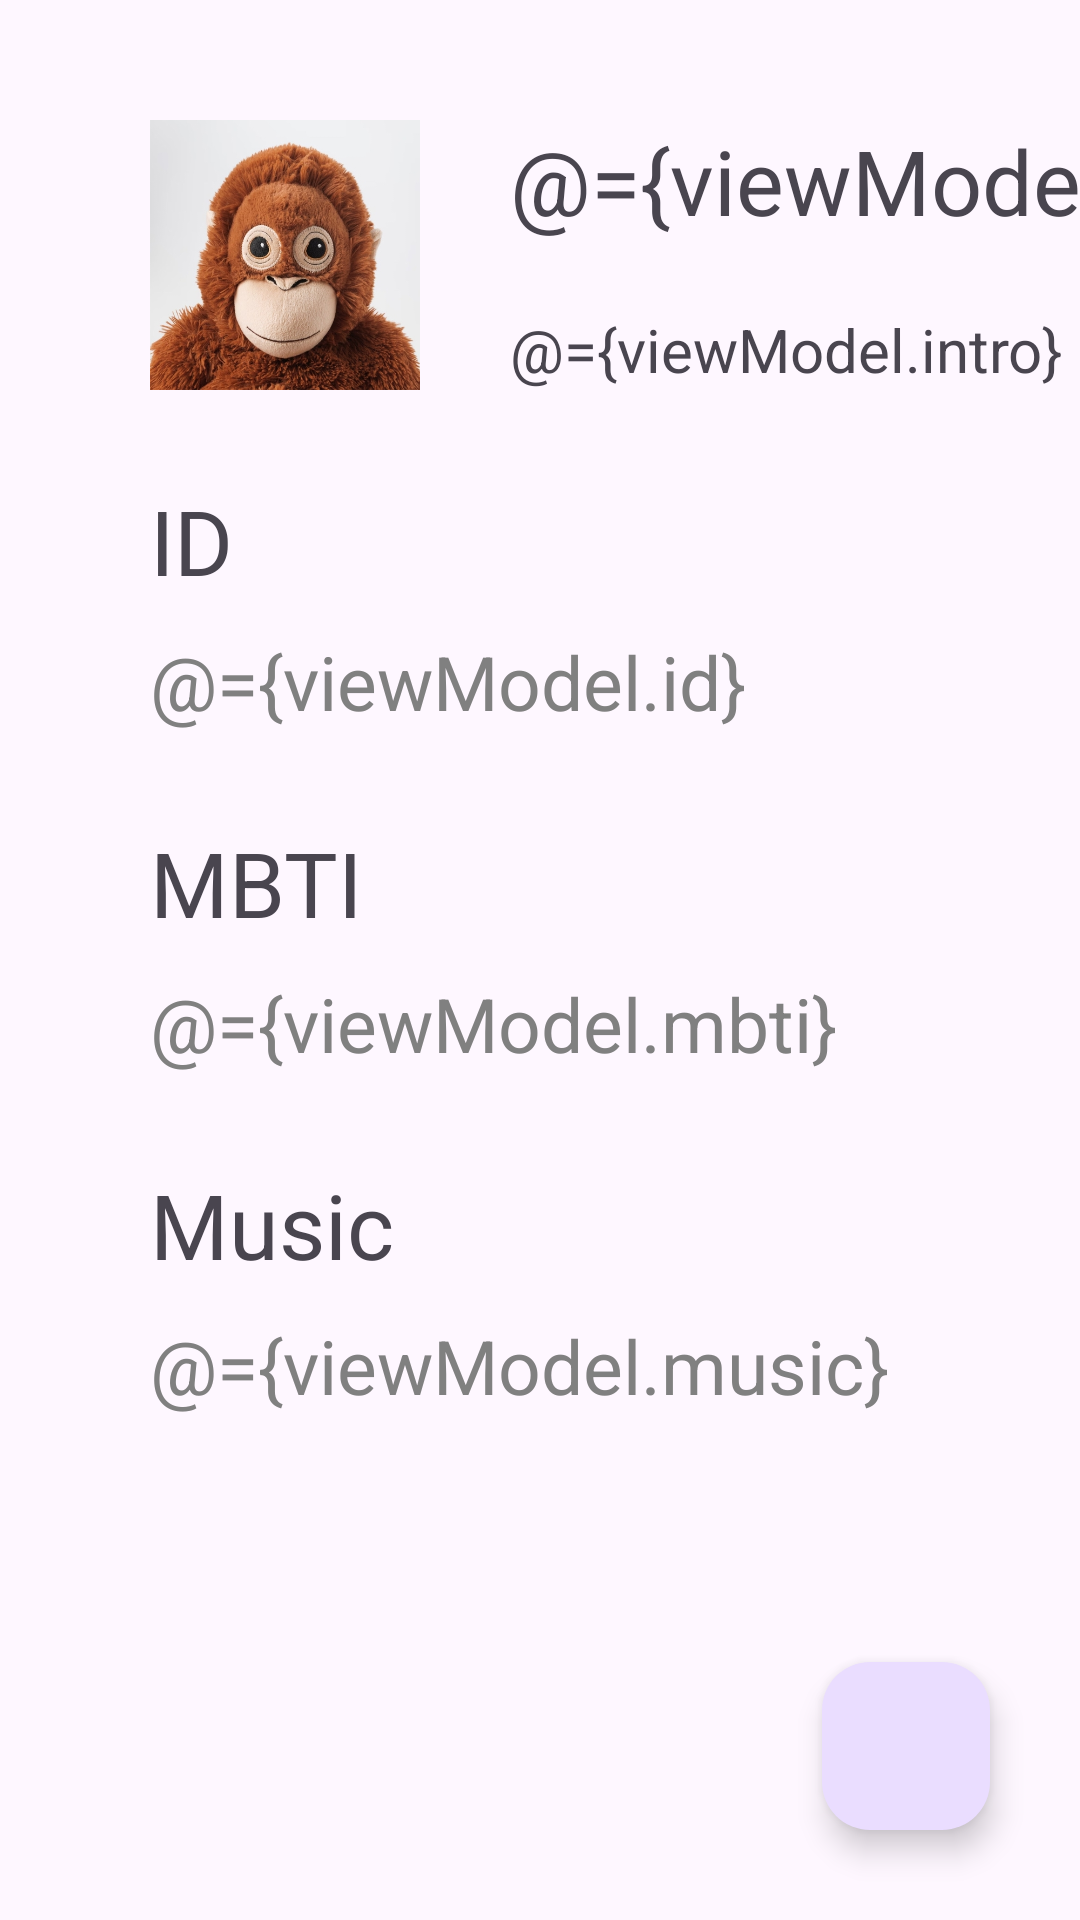

Icon bounding boxes for this 1080×1920 phone screenshot, format bbox(x1, y1, x2, y2):
monkey: bbox(150, 120, 420, 390)
